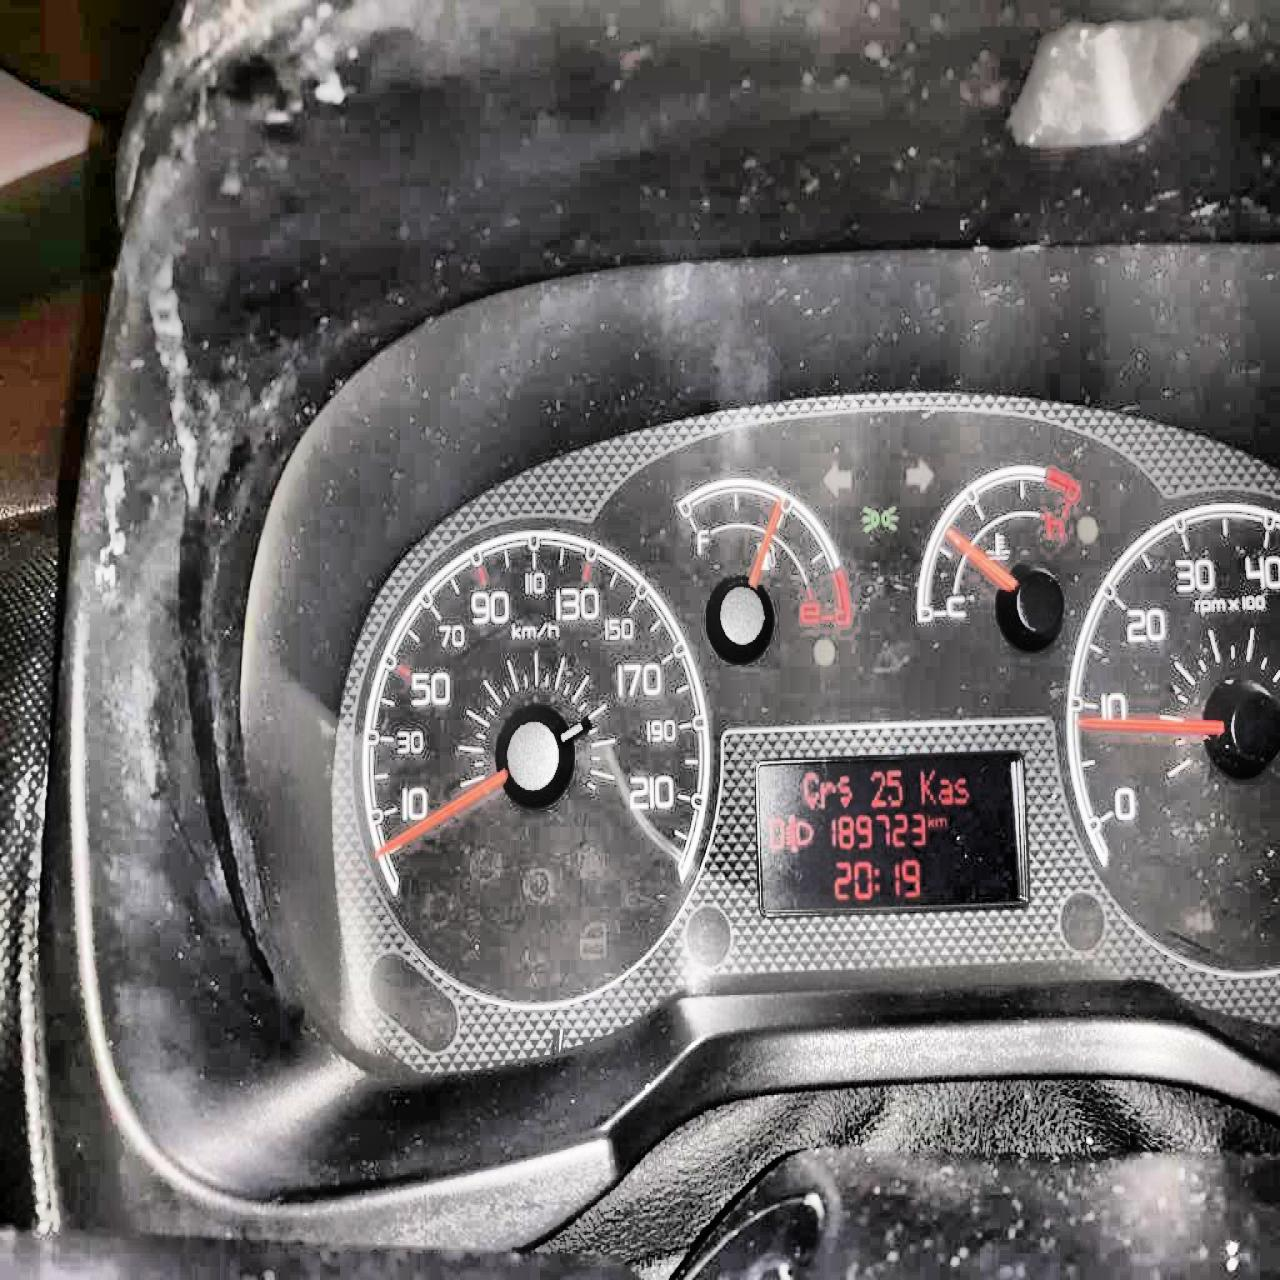0: (851, 859, 871, 898), (768, 817, 783, 849)
1: (892, 860, 900, 897), (830, 817, 836, 846)
2: (831, 858, 851, 900), (869, 770, 885, 806), (892, 812, 906, 845)
3: (908, 811, 925, 846)
5: (886, 768, 903, 805)
7: (874, 811, 890, 846)
8: (837, 816, 852, 846)
9: (900, 857, 919, 897), (853, 813, 871, 849)
X: (918, 767, 937, 805), (803, 770, 818, 809), (937, 777, 953, 805), (837, 774, 851, 806), (819, 779, 835, 809), (953, 775, 968, 803), (872, 865, 880, 893), (925, 812, 934, 829), (935, 813, 946, 826)
odometer: (753, 749, 1027, 919)
